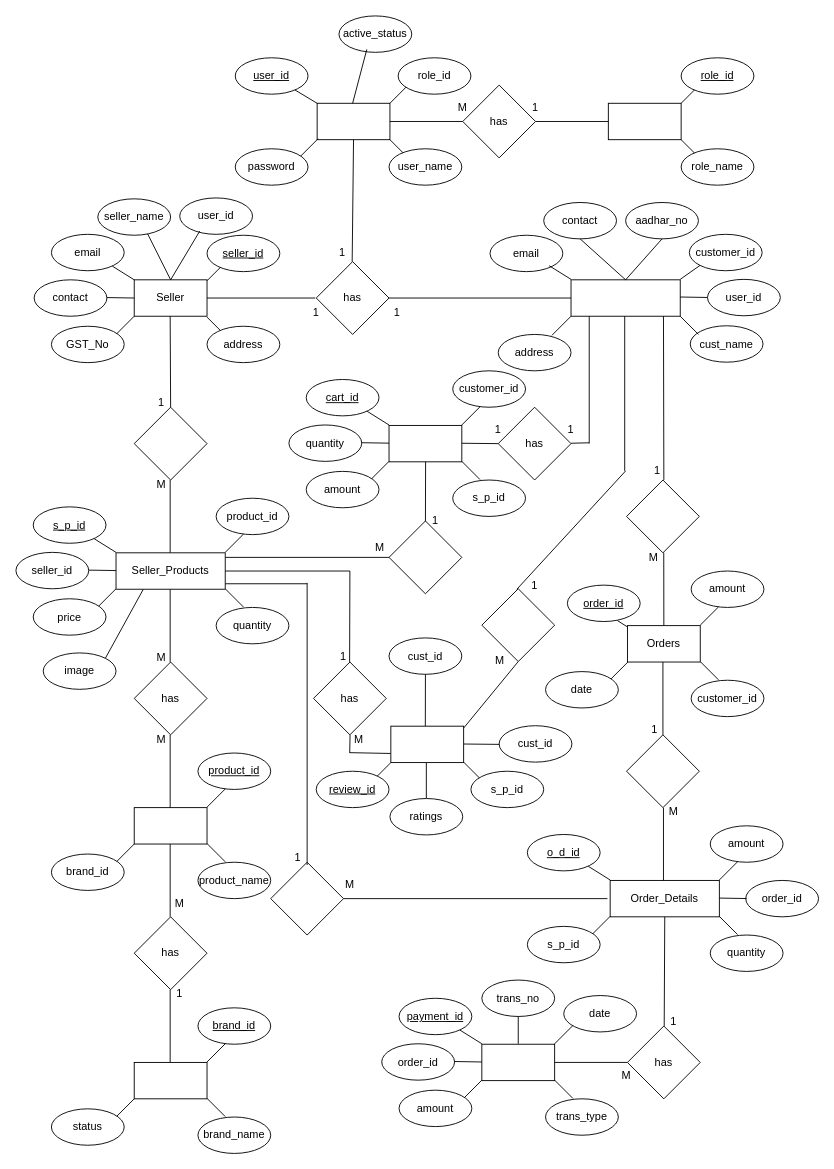
Image size: 834x1169. Some labels were removed from this diagram. Here are the shapes that lost their labels. From the top down, the box of each, then its label:
(316, 102, 390, 140): User
(607, 102, 681, 140): Role
(570, 279, 680, 316): Customer
(133, 406, 207, 480): sells
(388, 425, 462, 462): Cart
(626, 479, 699, 553): places
(388, 520, 462, 594): added to
(481, 588, 555, 662): gives
(390, 725, 464, 763): Reviews
(626, 734, 699, 808): have
(133, 807, 207, 844): Products
(270, 861, 344, 935): contains
(133, 1062, 207, 1099): Brands
(481, 1043, 555, 1081): Payments
